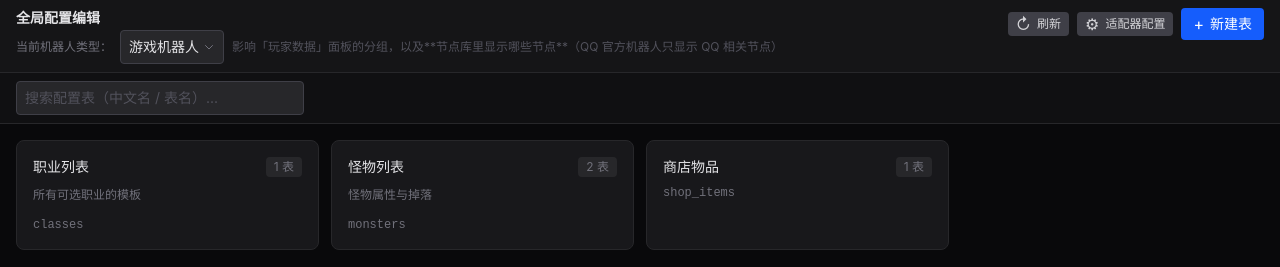
ConfigPanel - 搜索过滤 › 搜索关键词显示匹配数量
Check: the text "职业列表" is shown, box [33,158,89,175]
Step 1. Type "怪" into the field with placeholder "搜索配置表（中文名 / 表名）..." → [160, 98], box [16,81,304,115]
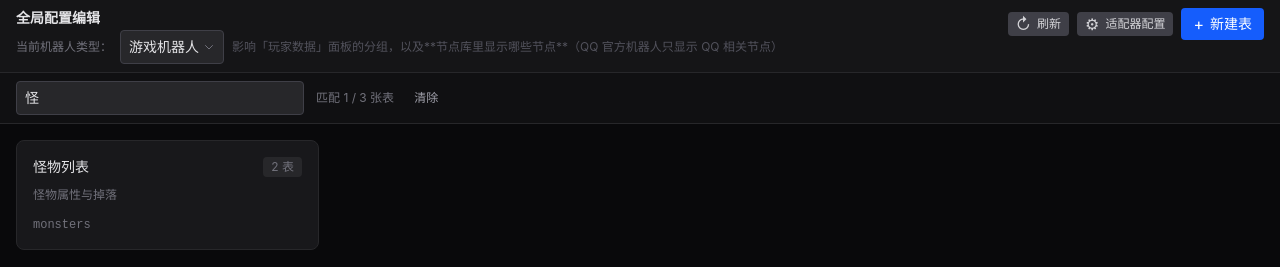
Check: the text "匹配 1 / 3 张表" is shown, box [316,90,394,106]
